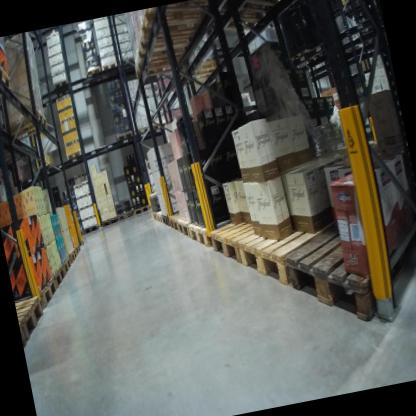pallet: (281, 187, 416, 333), (233, 193, 372, 294), (129, 30, 249, 82), (205, 197, 289, 267), (130, 15, 228, 60), (134, 0, 212, 42), (1, 102, 53, 148), (186, 208, 238, 250), (14, 292, 48, 344), (25, 275, 60, 316), (285, 36, 325, 71), (0, 47, 20, 115), (44, 73, 74, 103), (48, 263, 68, 293), (167, 209, 190, 233), (82, 62, 105, 82), (62, 146, 87, 164), (129, 201, 152, 218), (115, 207, 136, 224), (79, 219, 100, 235), (176, 218, 191, 240), (59, 254, 74, 276), (18, 321, 29, 349), (156, 207, 172, 225), (99, 60, 118, 75), (149, 120, 171, 132), (101, 216, 121, 229), (114, 127, 134, 140), (133, 124, 152, 137), (70, 240, 83, 257), (65, 248, 78, 264), (115, 53, 132, 65), (162, 213, 172, 228), (151, 211, 158, 220)
